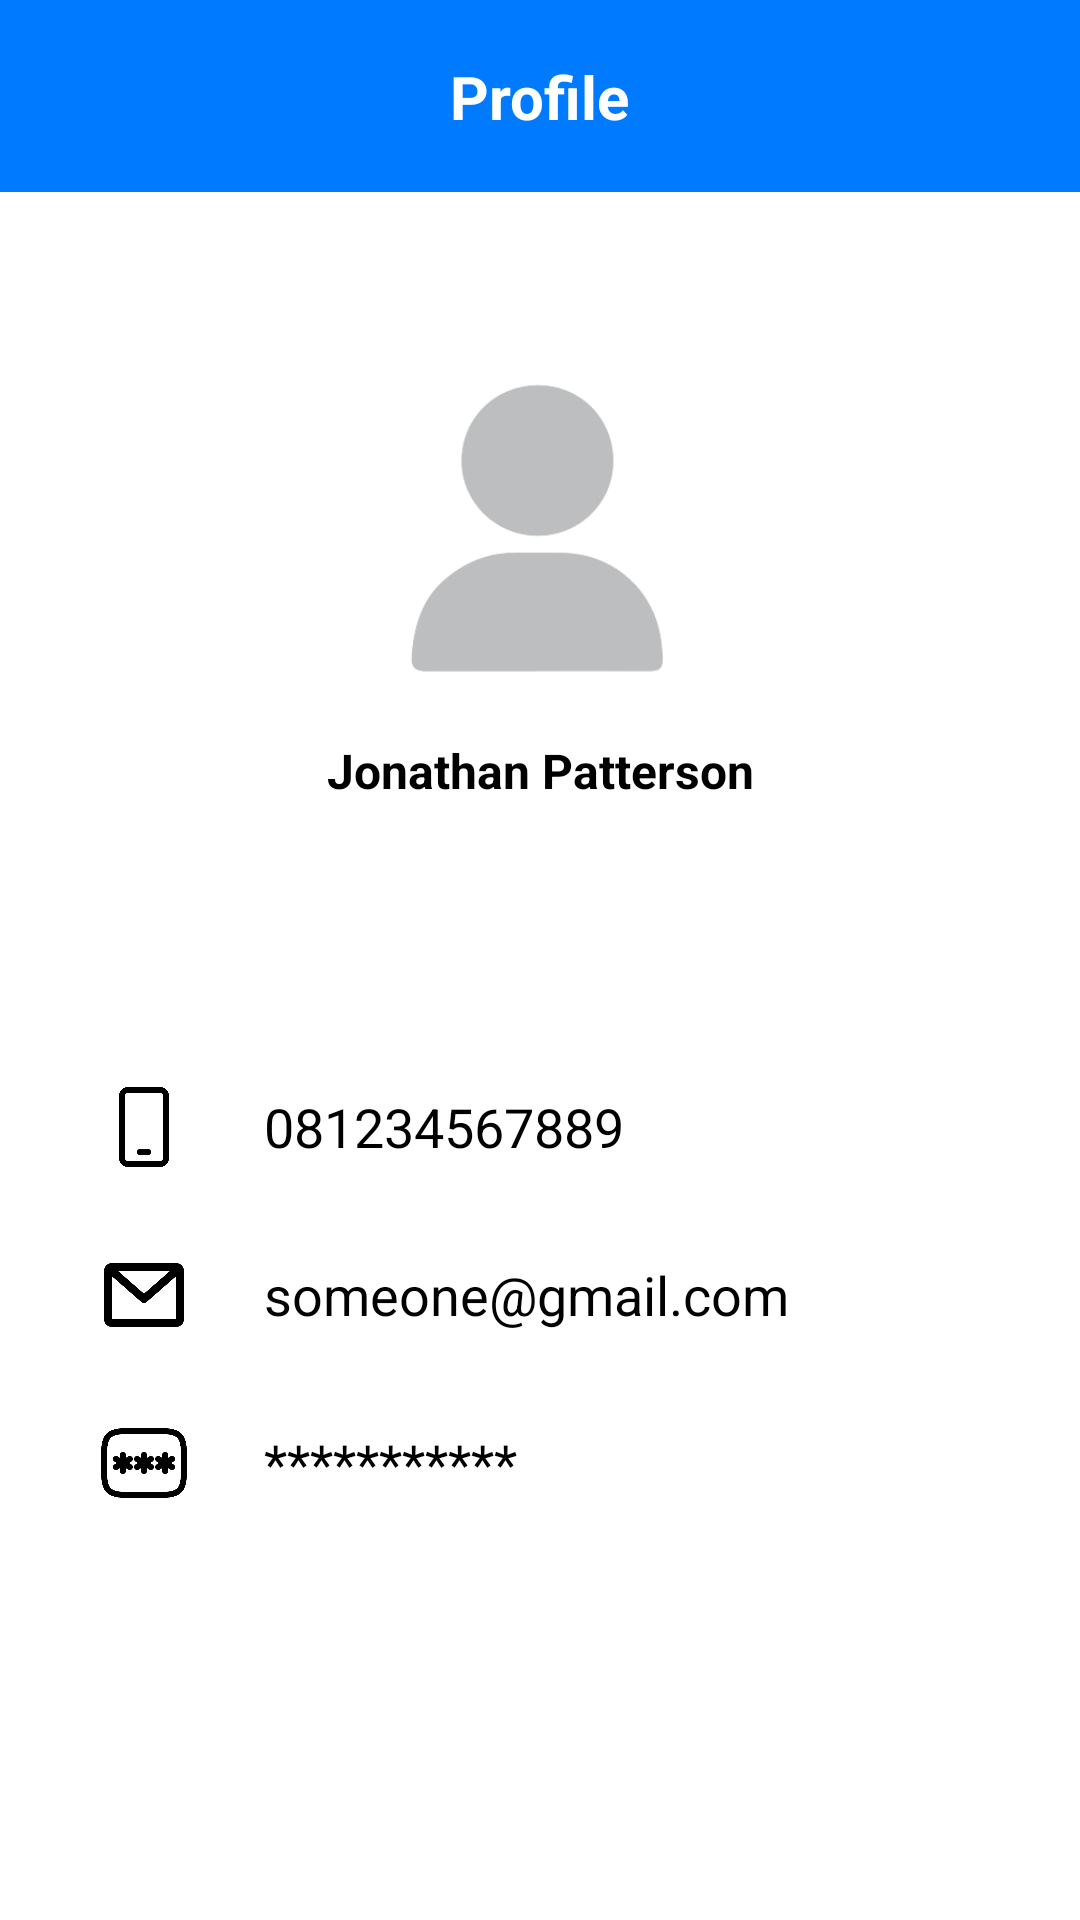

Named icons in this screenshot (1080*1920) and their centers, [x,y]:
Foto Profil: [537,528]
Ikon Email: [144,1295]
Ikon Kunci/Password: [144,1463]
Ikon Telepon: [144,1127]
